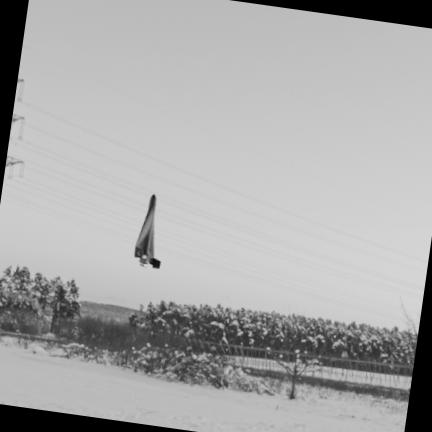Shahed: (134, 194, 160, 268)
